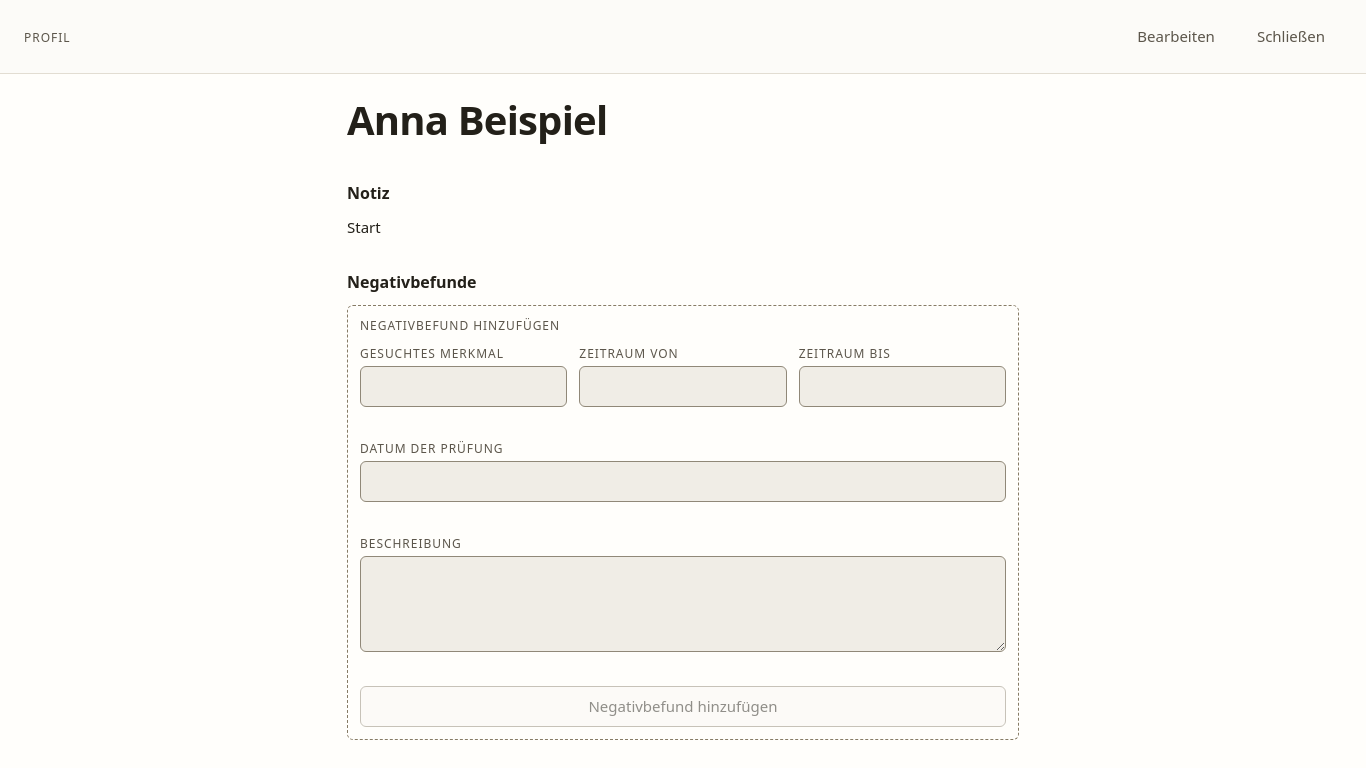
Test case: PersonBearbeitenAnsicht — eigene Ansicht mit acht Reitern (AP-1.30 PR 7b) › „Bearbeiten" öffnet den Editor als eigene Ansicht: Lesesicht weg, acht Reiter, „Person" aktiv
The image size is (1366, 768).
Click the button "Bearbeiten" at (1176, 36), box [1120, 16, 1232, 57]
(page scrolled)
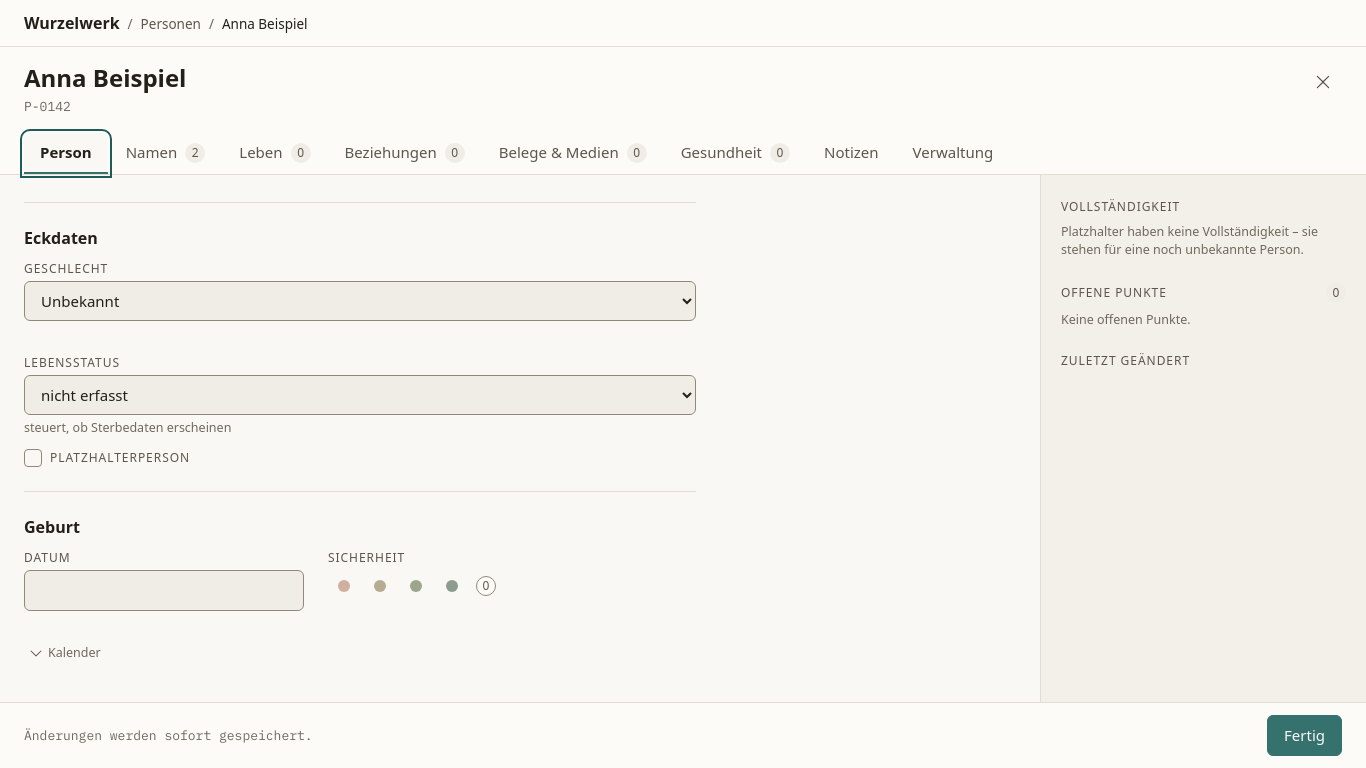
Now the number of dialogs is 1
Now the text with class "wz-reiterleiste__beschriftung" reads "Person", box [40, 142, 92, 162]
